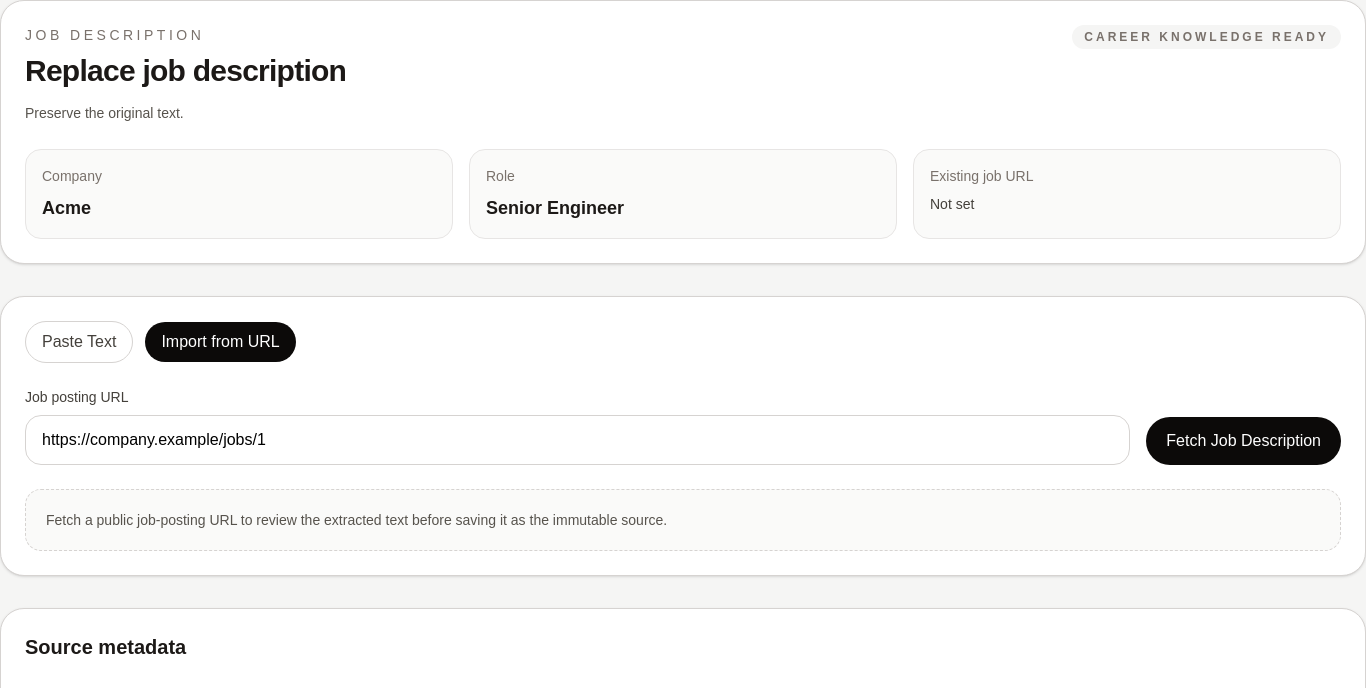
Test: JobDescriptionForm › switches to paste mode when both extraction paths fail and preserves the typed URL
Step 1. Replace the text in the field labelled "Job posting URL" with "https://company.example/jobs/rendered" → (578, 440), box top-left (25, 415), bottom-right (1130, 465)
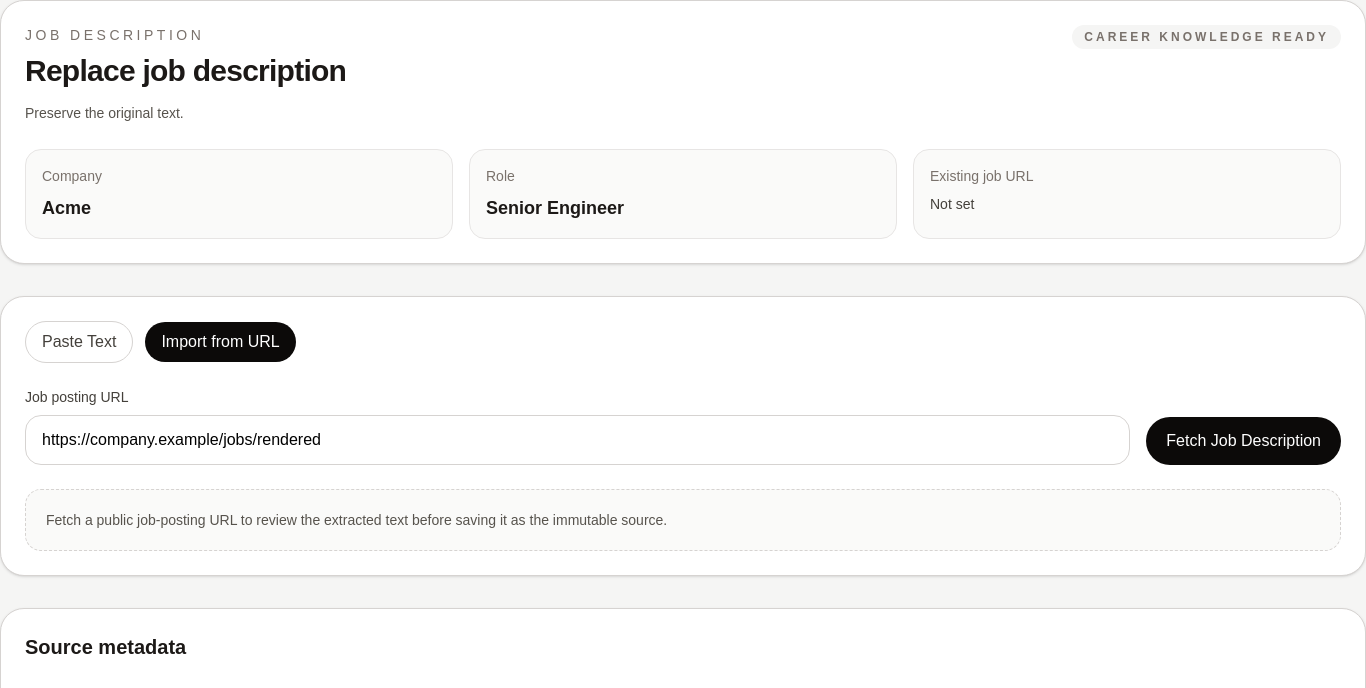
Step 2. Click the button "Fetch Job Description" → (1244, 441), box top-left (1146, 417), bottom-right (1341, 465)
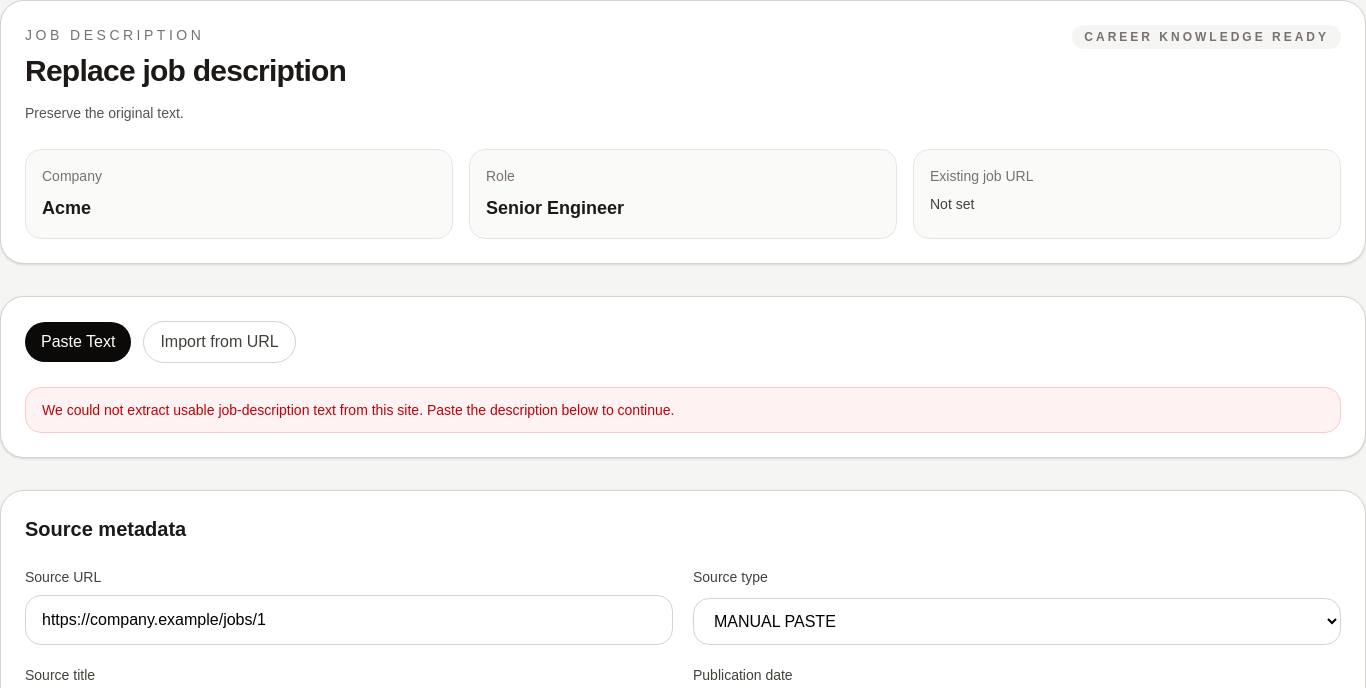
Result: the text "We could not extract usable job-description text from this site. Paste the description below to continue." is shown at top-left (42, 402), bottom-right (674, 418)
Result: the button "Fetch Job Description" is gone
Step 3. Click the button "Import from URL" → (220, 342), box top-left (143, 321), bottom-right (296, 363)
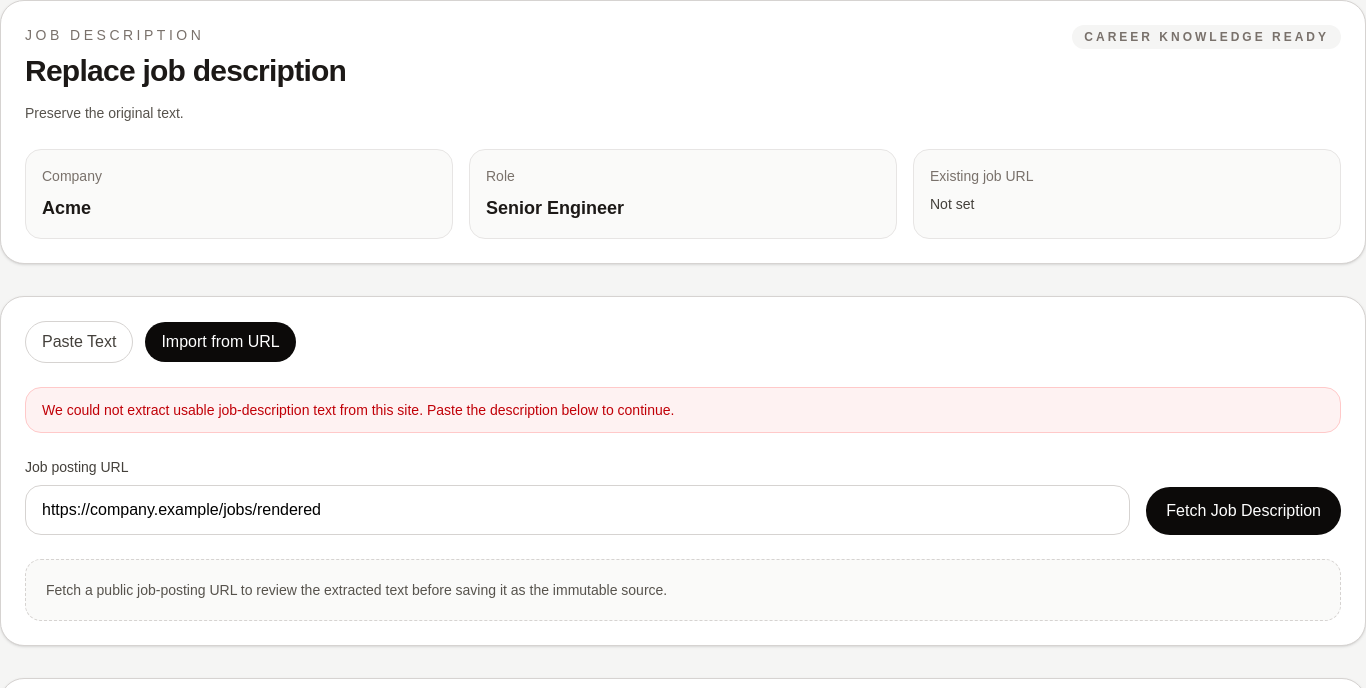
Result: the button "Fetch Job Description" is shown at top-left (1146, 487), bottom-right (1341, 535)
Result: the field labelled "Job posting URL" holds "https://company.example/jobs/rendered" at top-left (25, 485), bottom-right (1130, 535)
